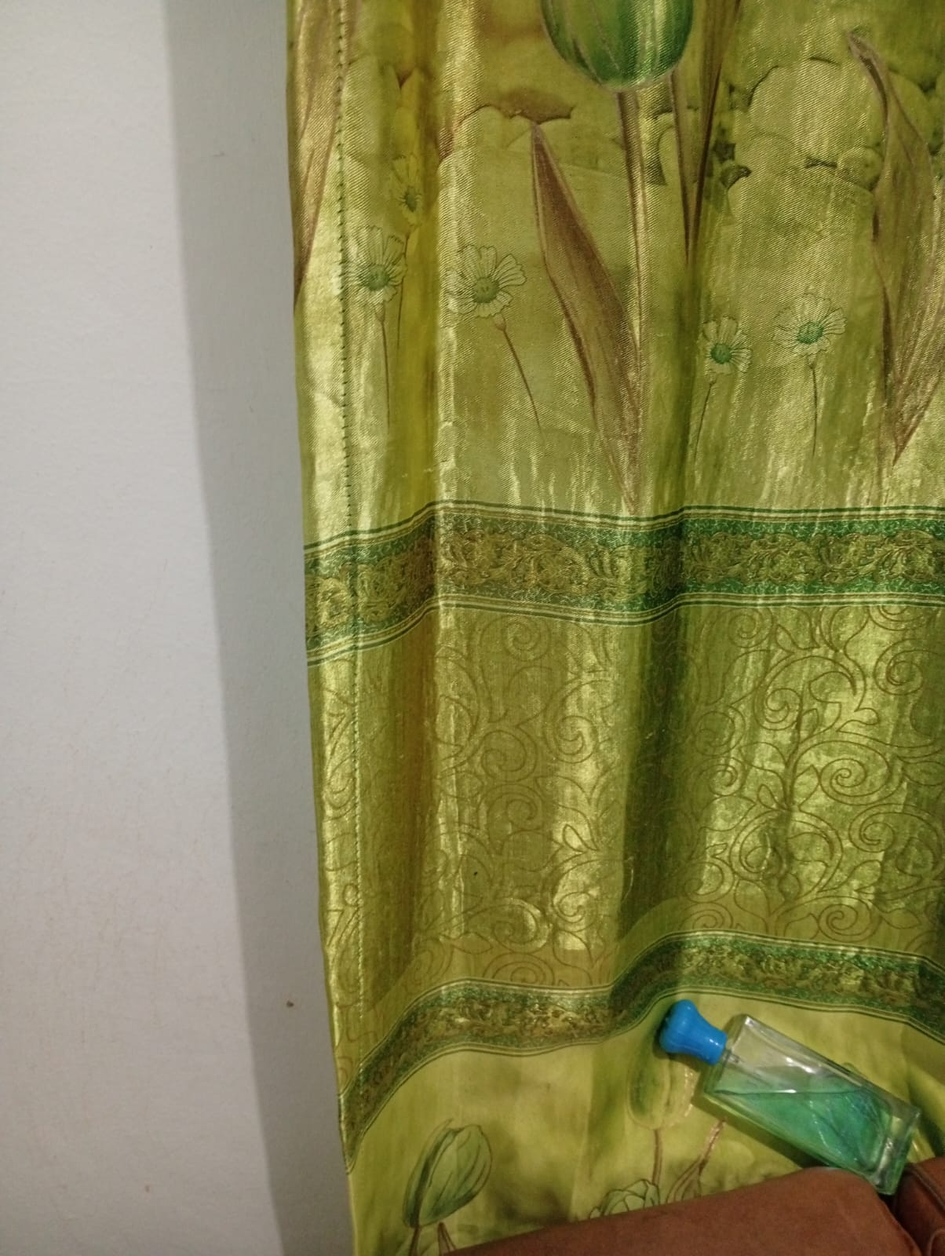Parfum: (645, 922, 945, 1183)
